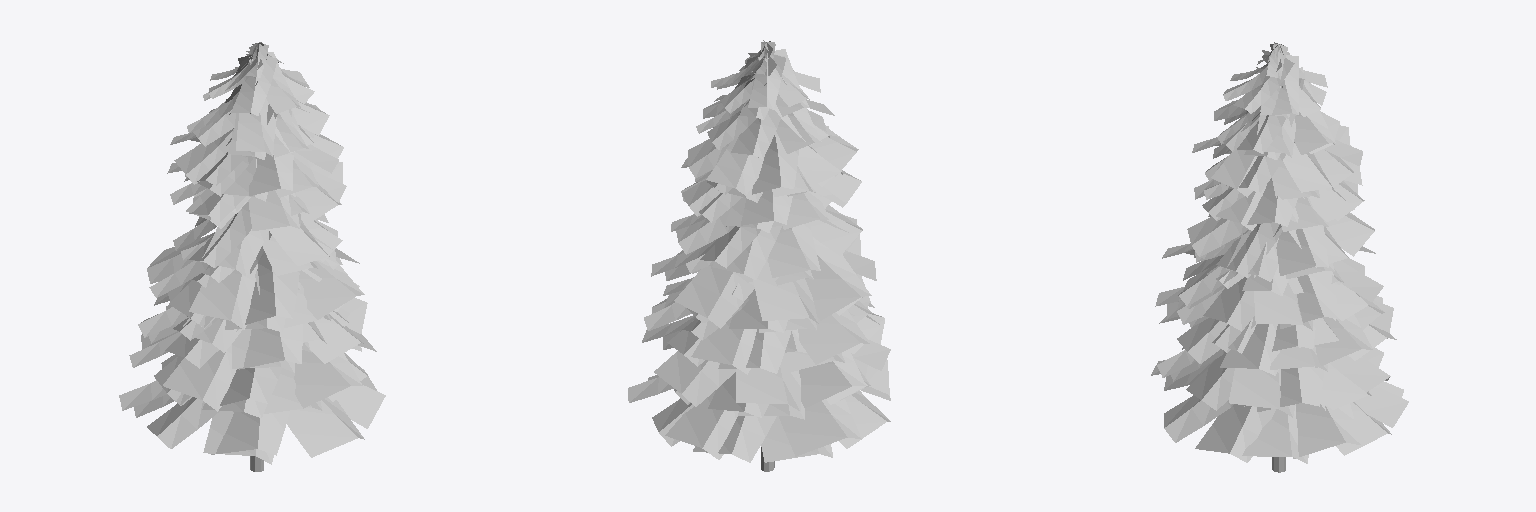
File: Tree03.obj
3 renders of one model, left to right at view 1: azimuth 30°, elevation 25°; view 2: azimuth 150°, elevation 25°; view 3: azimuth 270°, elevation 25°, orthographic.
Parts seen in each view (by area): view 1: Cylinder.001; view 2: Cylinder.001; view 3: Cylinder.001.
Boxes of the visible parts, <box> form: Cylinder.001: <box>119,42,385,471</box>; Cylinder.001: <box>628,40,890,471</box>; Cylinder.001: <box>1151,42,1408,472</box>.
Size of the model in its own units: 4.65 by 8.32 by 4.58.